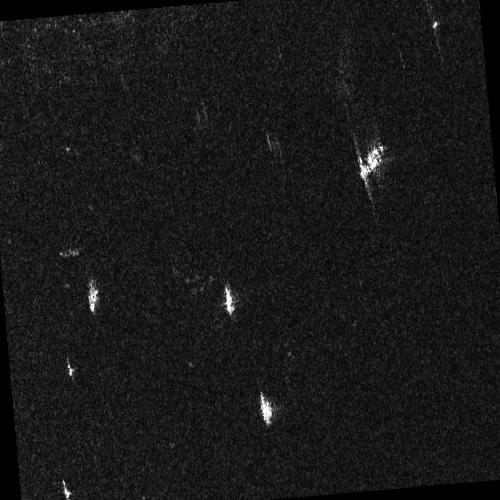ship: (357, 144, 385, 180), (259, 390, 273, 426), (223, 284, 236, 316), (86, 280, 98, 313), (61, 477, 71, 500), (65, 359, 74, 378), (431, 20, 438, 29)
